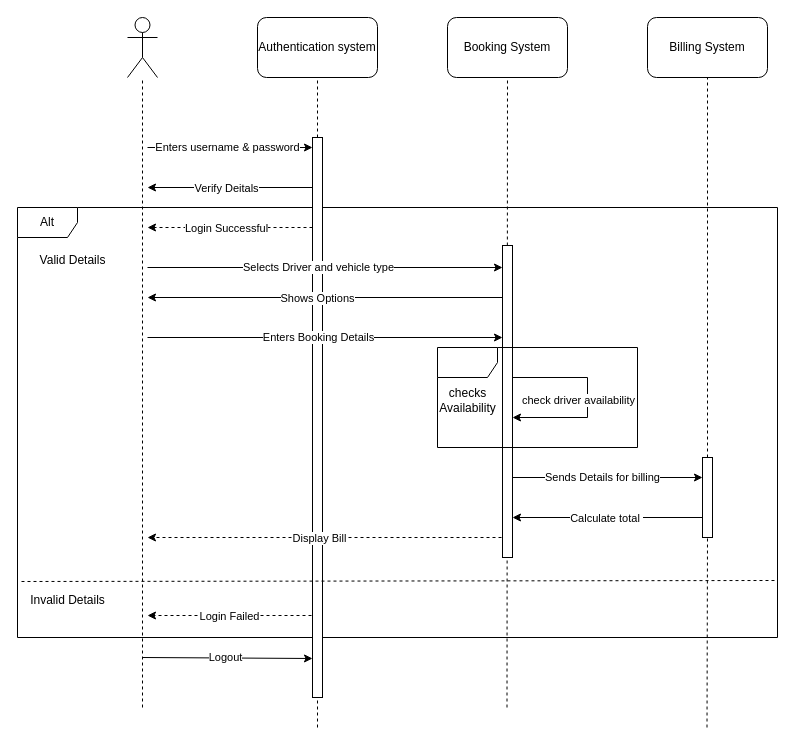
Image size: 795x746. Some labels were removed from this diagram. Here are the shapes that lost their labels. From the top down, the centre of each, then its label:
point 142,47: Customer
point 537,397: loop
